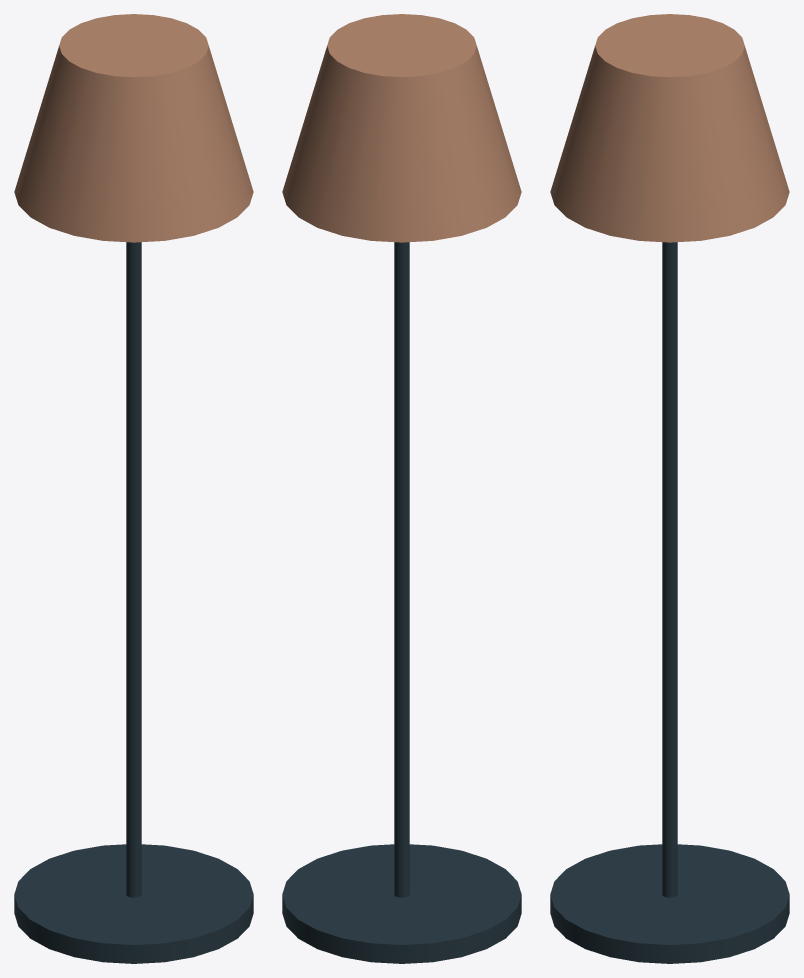
File: floor-lamp.glb
3 views of the same model, side by side, from view 1: azimuth 30°, elevation 25°; view 2: azimuth 150°, elevation 25°; view 3: azimuth 270°, elevation 25° (orthographic).
Parts seen in each view (by area): view 1: poc-floor-lamp-part-51, poc-floor-lamp-part-49, poc-floor-lamp-part-50; view 2: poc-floor-lamp-part-51, poc-floor-lamp-part-49, poc-floor-lamp-part-50; view 3: poc-floor-lamp-part-51, poc-floor-lamp-part-49, poc-floor-lamp-part-50.
Part boxes in pixels (bbox=[...]): poc-floor-lamp-part-51: bbox=[14, 14, 253, 242]; poc-floor-lamp-part-49: bbox=[14, 844, 253, 963]; poc-floor-lamp-part-50: bbox=[126, 242, 141, 897]; poc-floor-lamp-part-51: bbox=[282, 14, 521, 242]; poc-floor-lamp-part-49: bbox=[282, 844, 521, 963]; poc-floor-lamp-part-50: bbox=[394, 242, 409, 897]; poc-floor-lamp-part-51: bbox=[550, 14, 789, 242]; poc-floor-lamp-part-49: bbox=[550, 844, 789, 963]; poc-floor-lamp-part-50: bbox=[662, 242, 677, 897].
Bounding box in the file's own units: 0.4 × 1.6 × 0.4.
